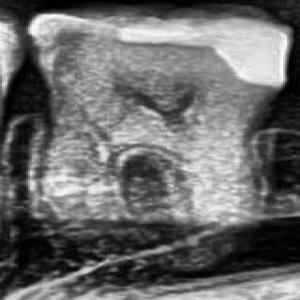tooth: (29, 8, 289, 226)
